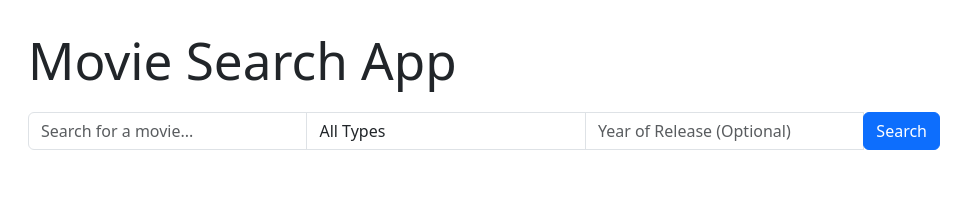
MovieSearch Component › handles API error gracefully
The image size is (969, 216).
# Fill in the search input
Type "Movie Title" into the field with placeholder "Search for a movie...".
click(168, 131); type("Movie Title")  # box [28,112,308,150]
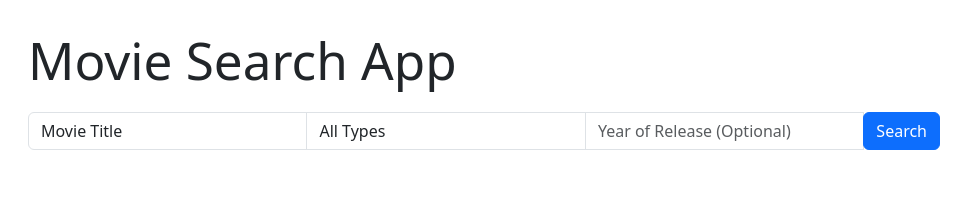
# Trigger a click event on the "Search" button
Click the button "Search".
click(902, 131)  # box [863,112,940,150]
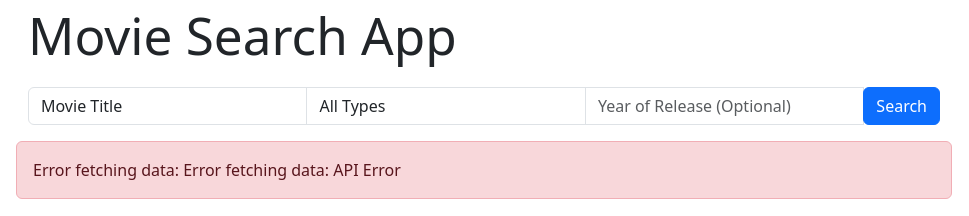
Check: the text "Error fetching data: Error fetching data: API Error" is shown, box [16,141,952,199]
